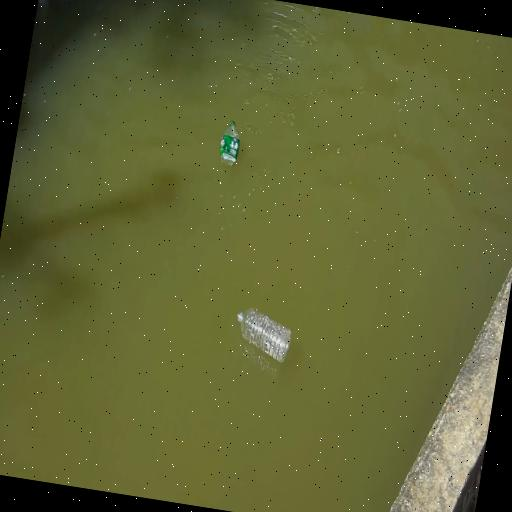plastic: (230, 302, 296, 364), (216, 118, 244, 173)
